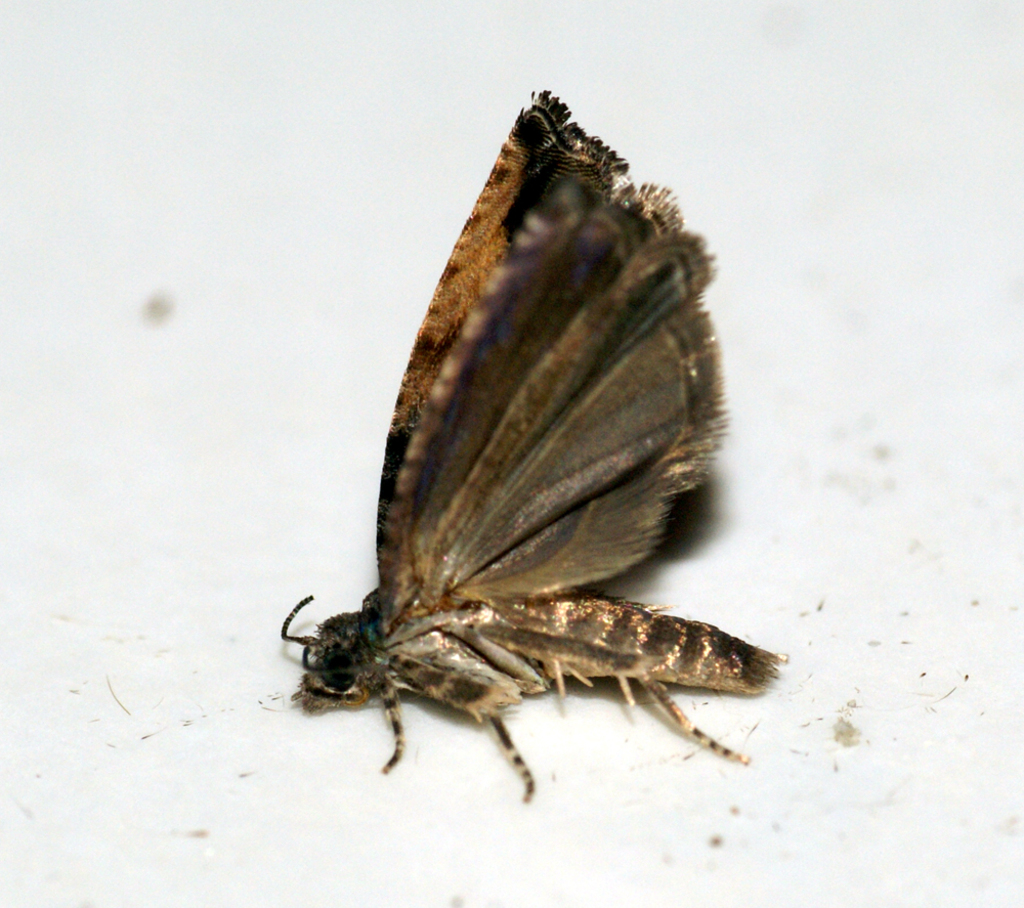Butterfly: (284, 51, 865, 755)
